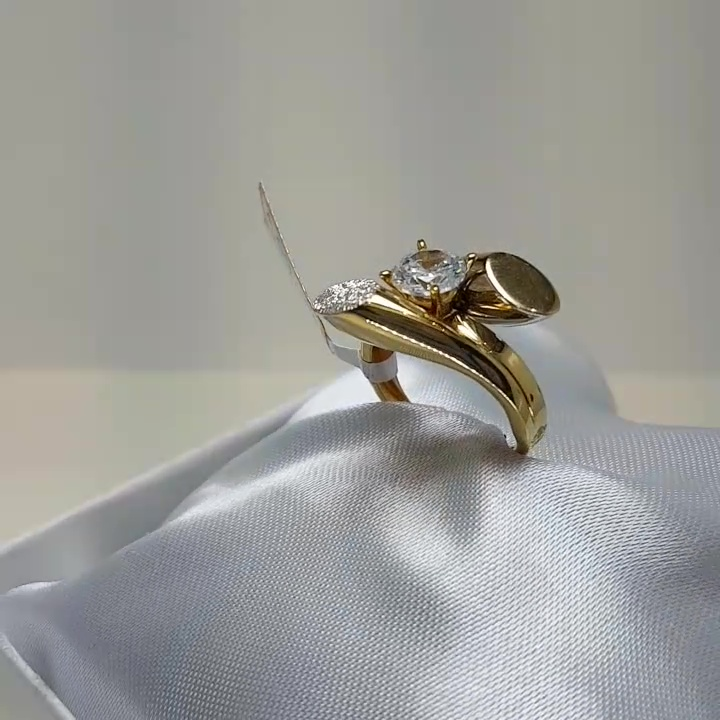Ring 7: (313, 228, 591, 473)
